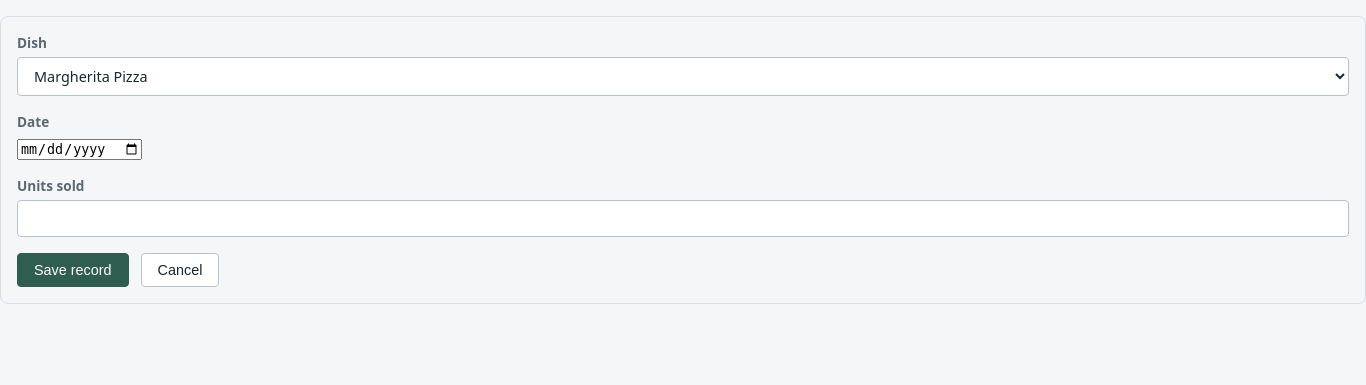
SalesHistoryRecordForm › blocks submit with an inline error when date is missing
This screenshot has width=1366, height=385.
In the number field labelled "Units sold": (683, 219) [17,200,1349,237], type "10"
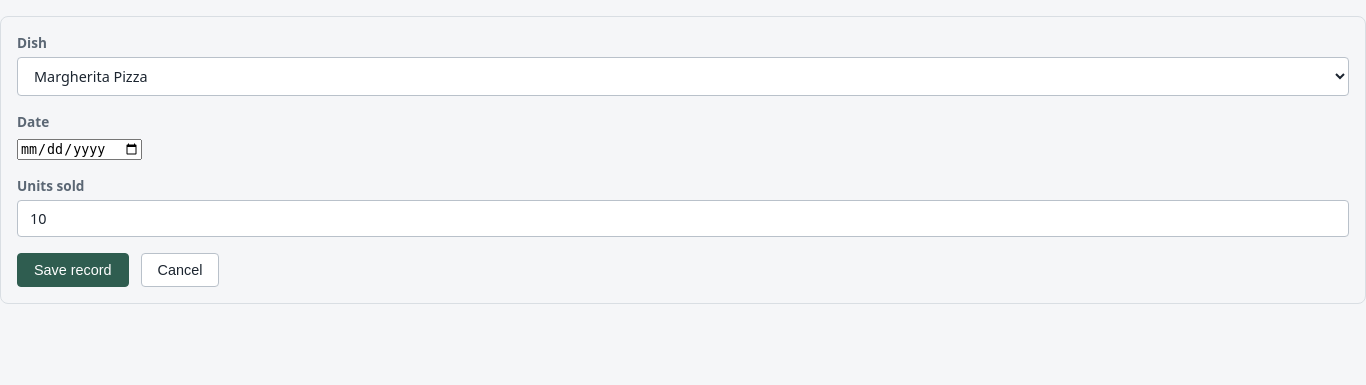
Click the button "Save record": (73, 270) [17,253,129,287]
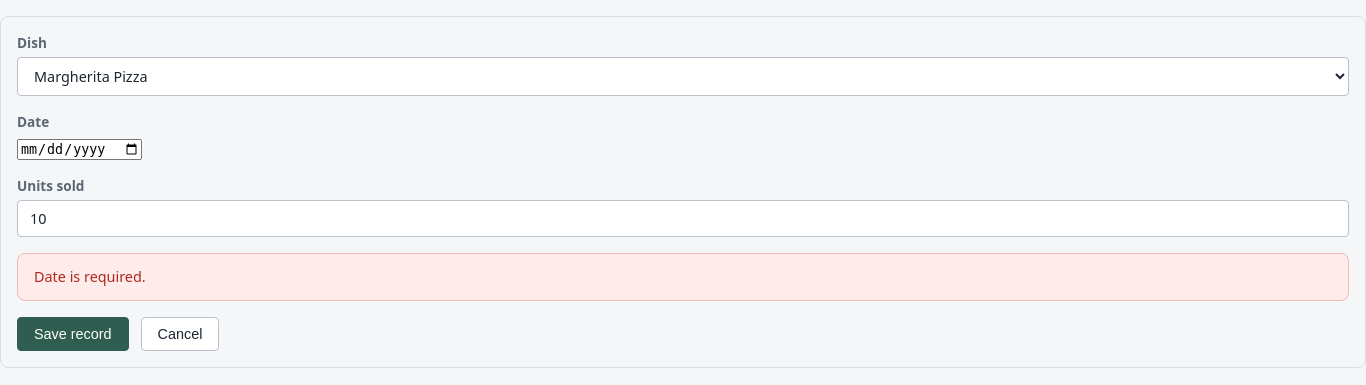
Result: the message shows "Date is required" at [34,267,146,286]
